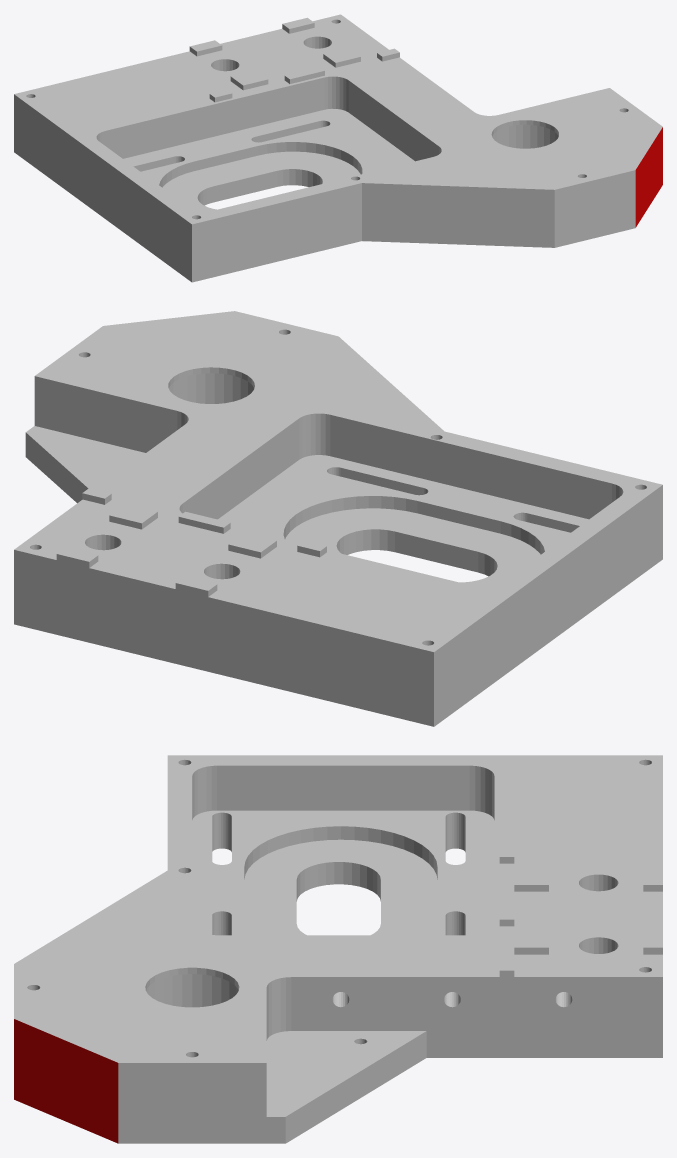
The model's file is 622006_rev4_Suporte_motor_da_balana_Body_step_6.obj.
The picture shows the model from 3 angles, top to bottom: view 1: azimuth 30°, elevation 25°; view 2: azimuth 150°, elevation 25°; view 3: azimuth 270°, elevation 25°; orthographic projection. The views are drawn at different scales.
Parts seen in each view (by area): view 1: Object1; view 2: Object1; view 3: Object1.
Part boxes in pixels (left/top/right/bottom): Object1: left=14, top=14, right=662, bottom=282; Object1: left=14, top=311, right=662, bottom=726; Object1: left=14, top=755, right=662, bottom=1143.
Size of the model in its own units: 147 by 19.5 by 131.
